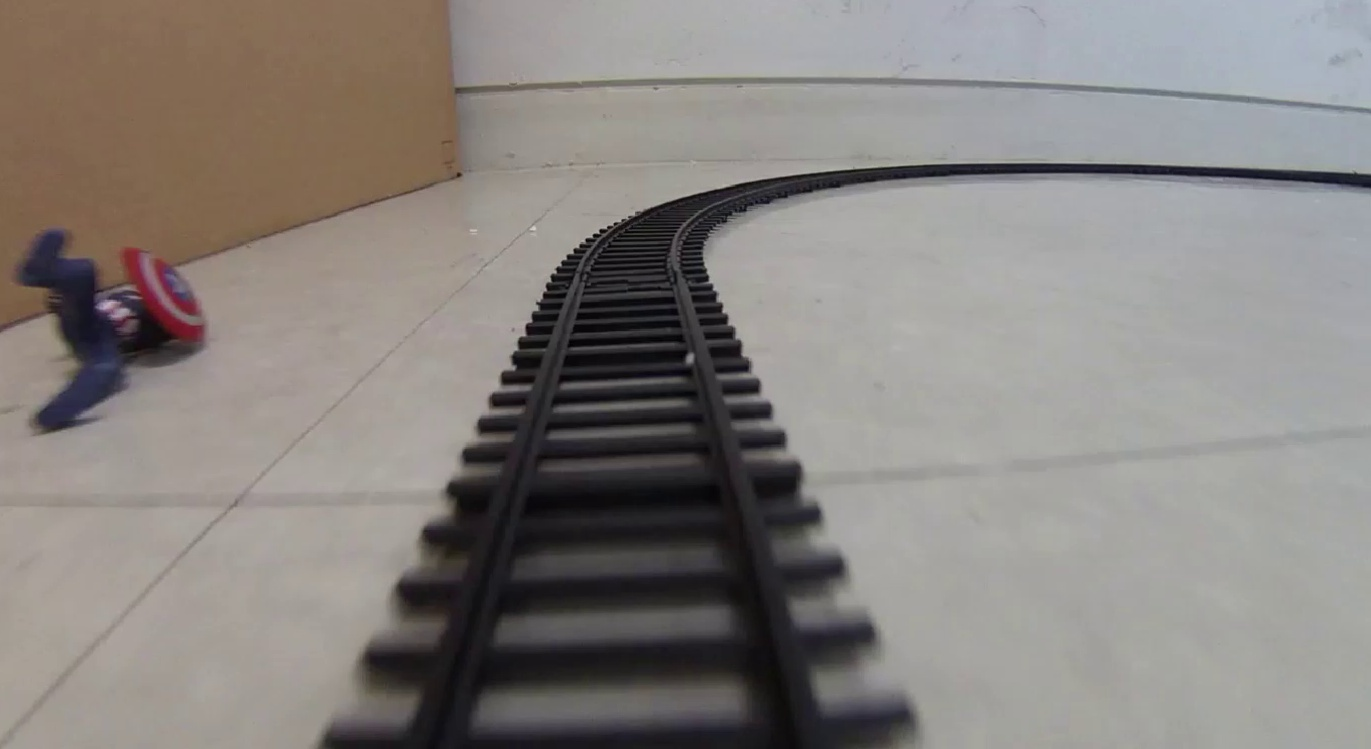people: (16, 230, 208, 432)
